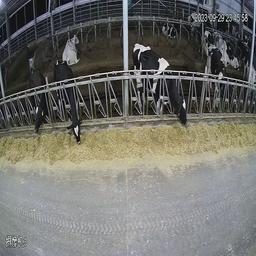cow: (132, 45, 187, 134), (53, 62, 82, 148), (27, 67, 49, 137), (208, 45, 227, 98), (62, 33, 81, 64), (187, 7, 202, 36), (162, 15, 175, 42)
